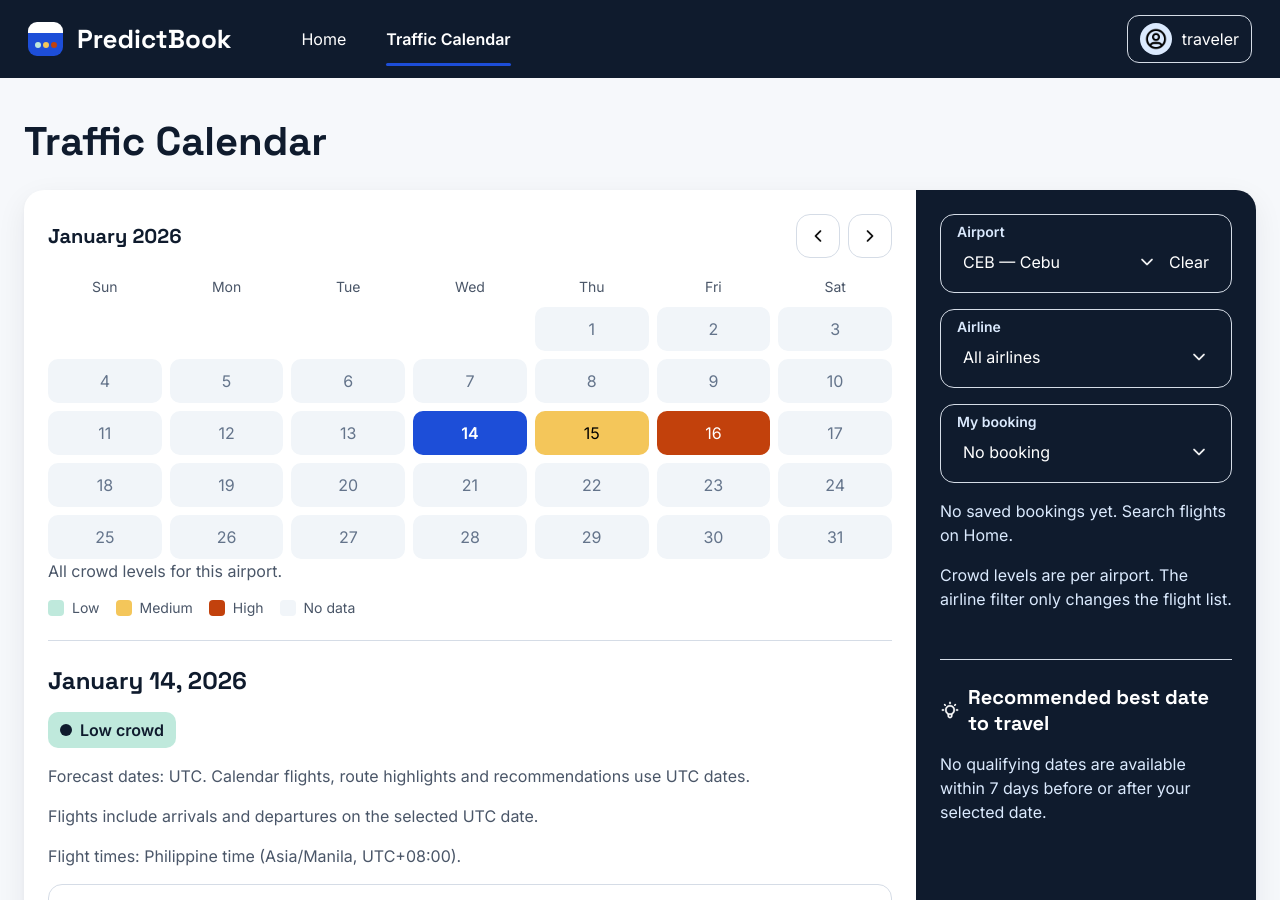
Test: keeps No booking usable without saved routes and clears an active booking
Later steps or results of the test are not shown.
Click the dropdown with id "record-calendar-booking": (1086, 452) [957,430,1215,474]
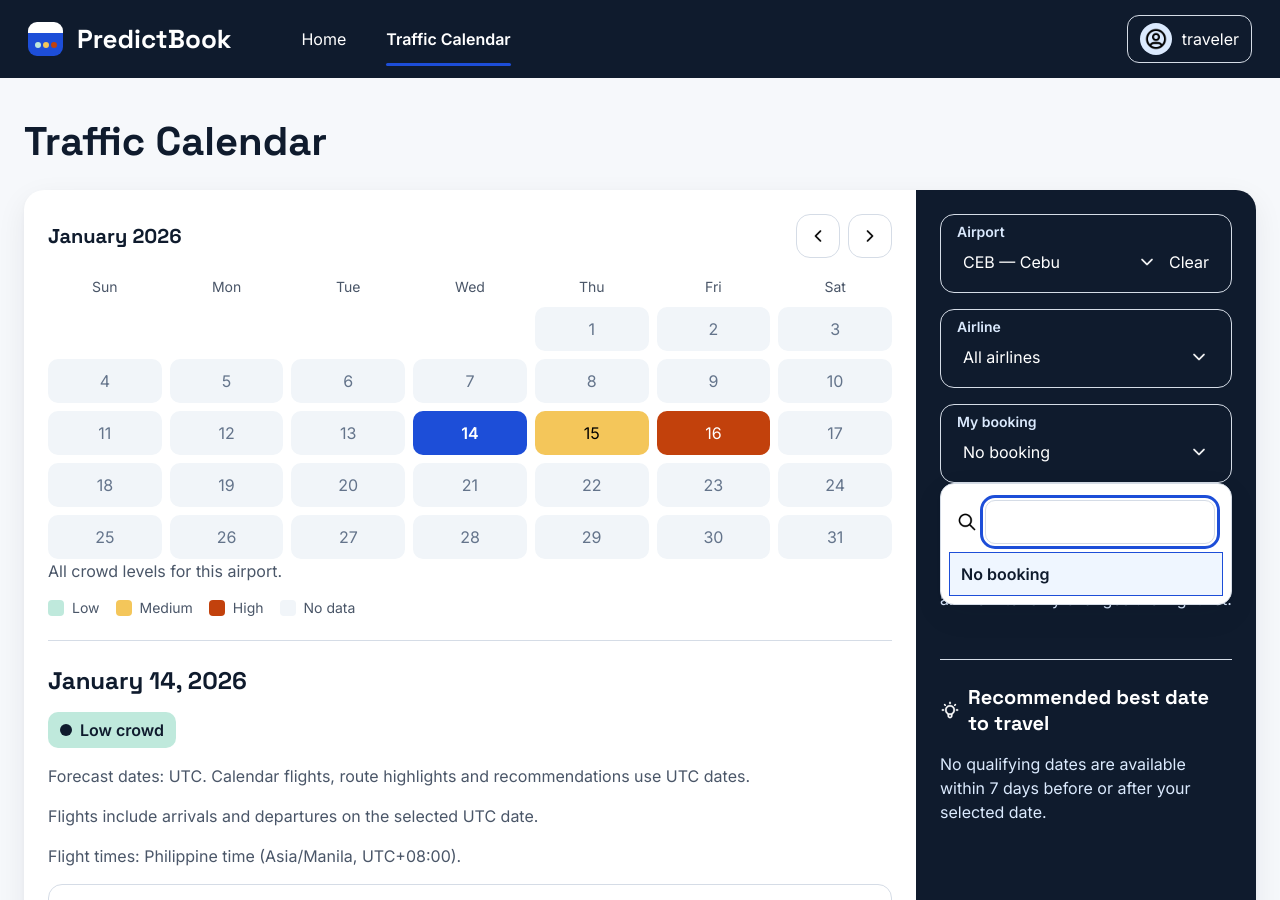
Result: the number of options is 1 at [949,552,1223,596]
